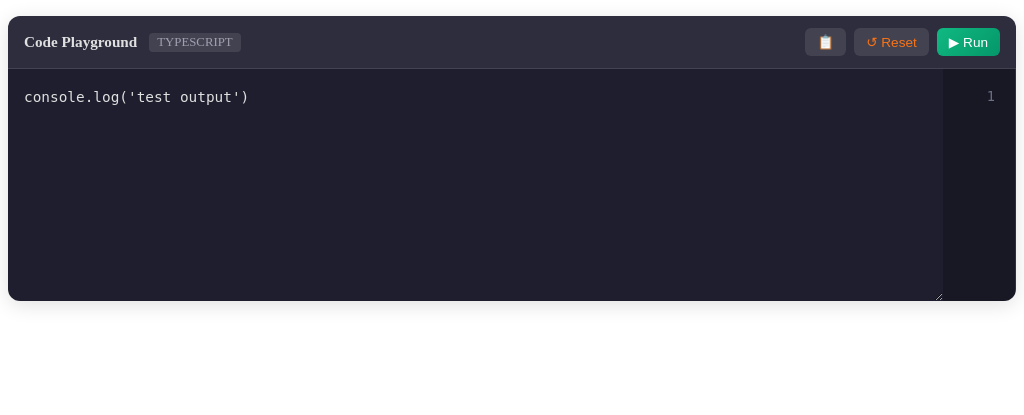
Test: CodePlayground Component › 🔴 RED: Interactive Features › should display output after running code
The width and height of the screenshot is (1024, 415).
Step 1. Click the button "▶ Run" → (968, 42), box 937,28 -> 1000,56
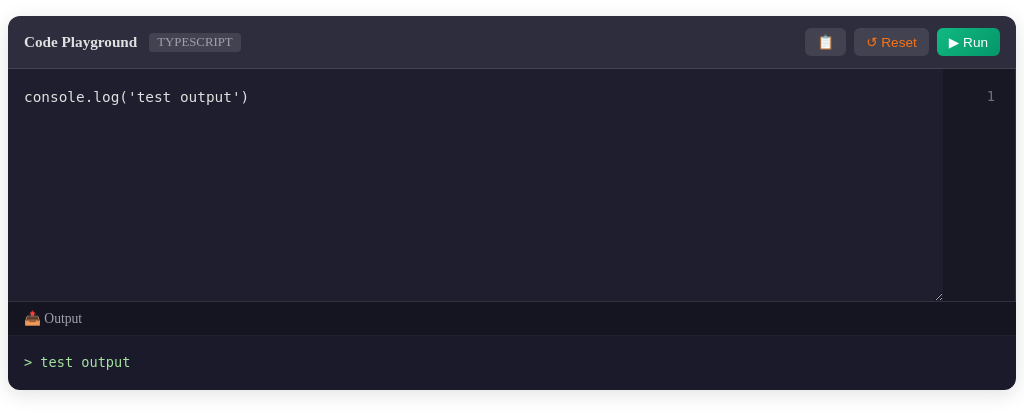
Now the element with test id "output-area" is shown, box 8,301 -> 1016,390
